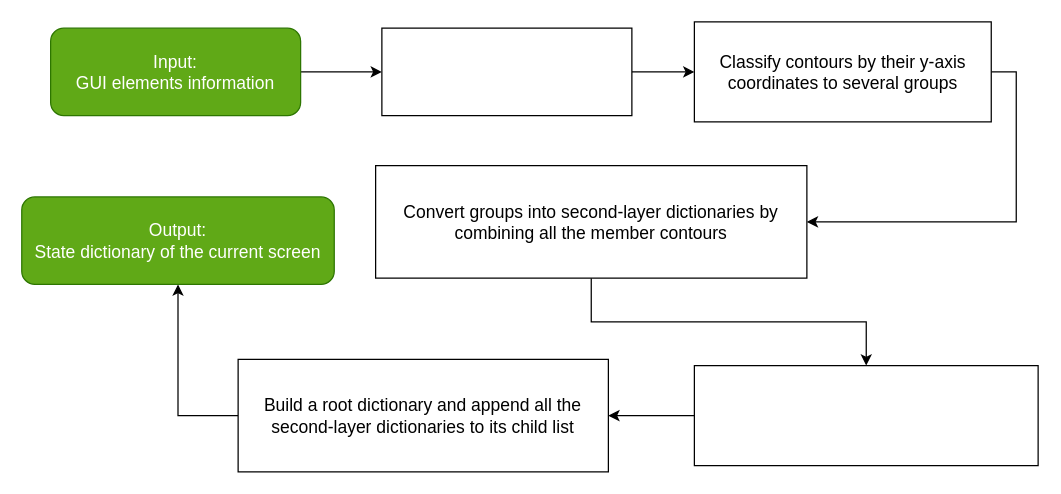
The diagram is 1061 pixels wide and 494 high, and some of its shapes have lost their labels. Here are the shapes that lost their labels. From the top down, the box of each, then its label:
(381, 27, 632, 116): Convert contours into leaf node dictionaries
(693, 364, 1038, 466): Append contours of each group to child list of the second-layer dictionary
